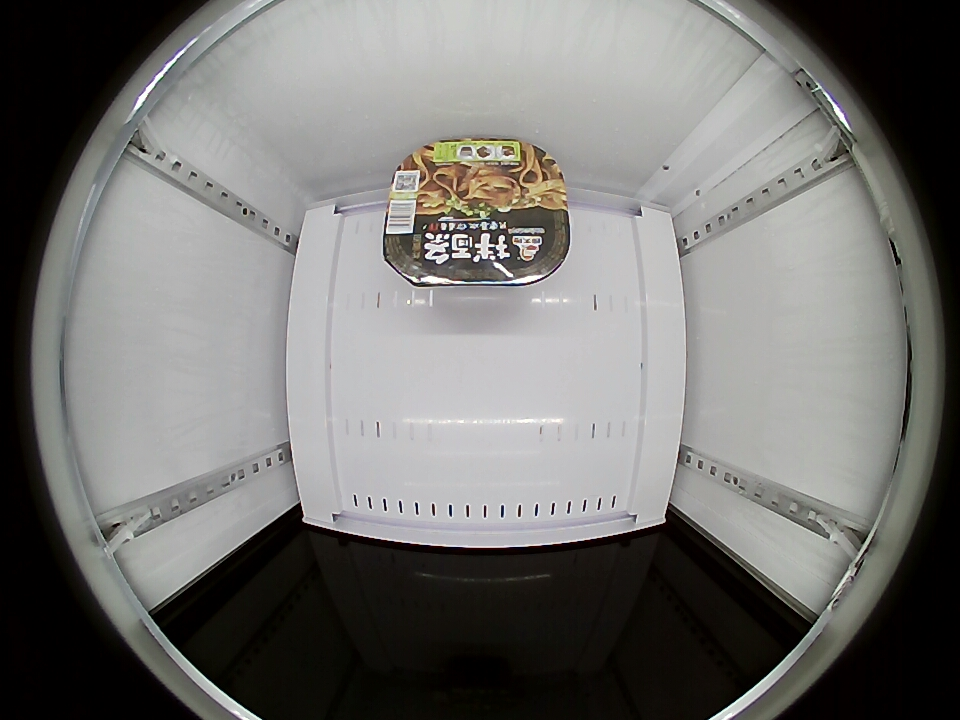gudasao: (384, 139, 571, 288)
